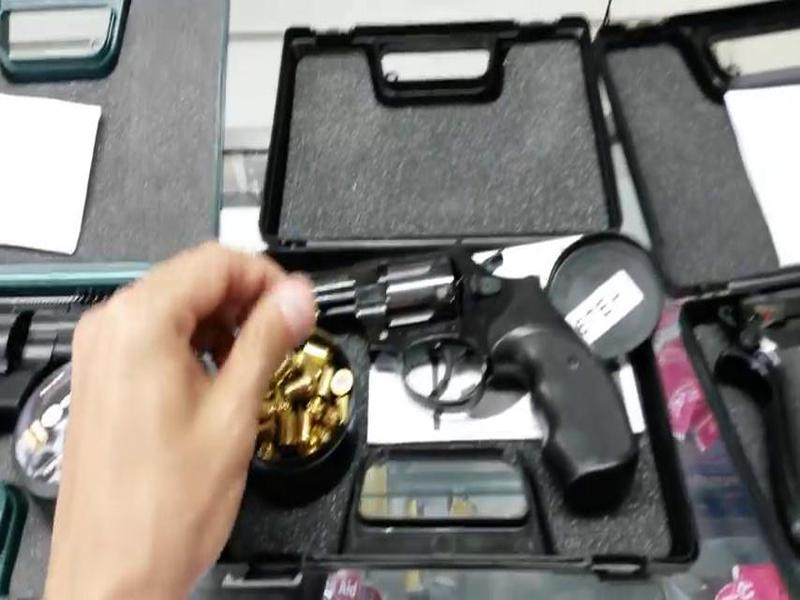Revolver: (287, 220, 654, 509)
